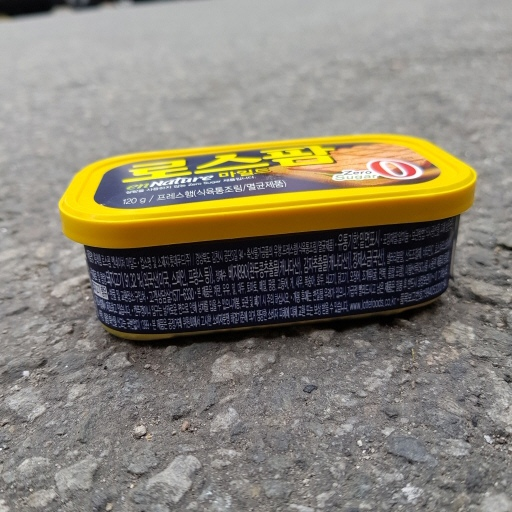Metal_2: (58, 134, 480, 346)
